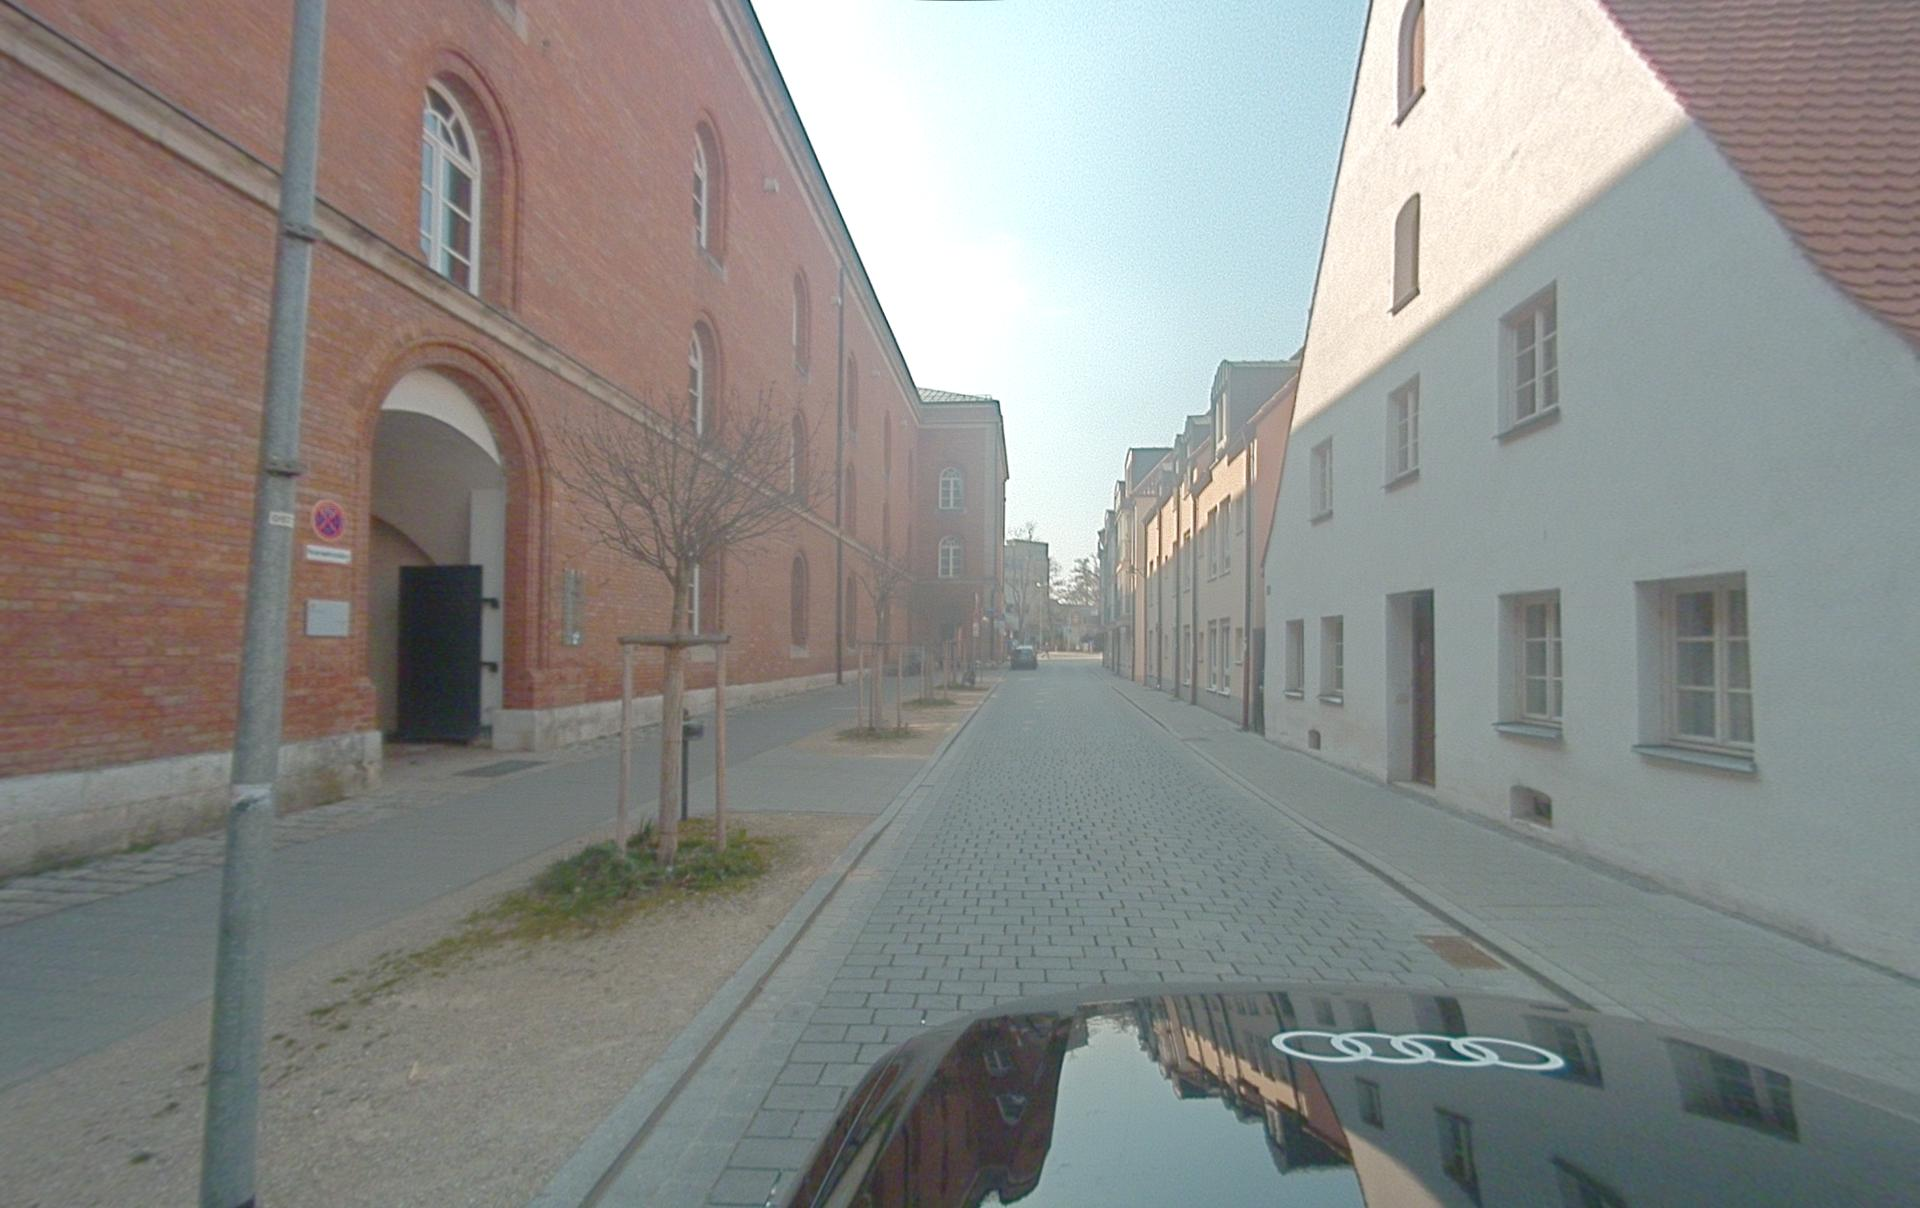car: (1010, 644, 1038, 669)
